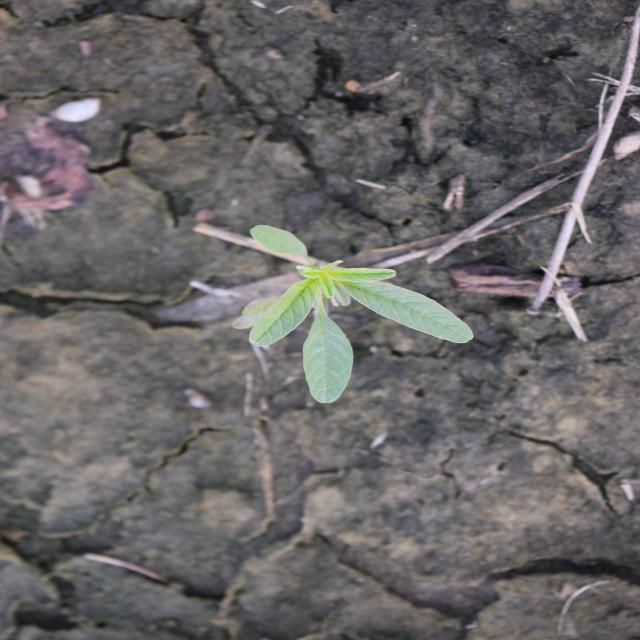Waterhemp: (228, 222, 476, 406)
